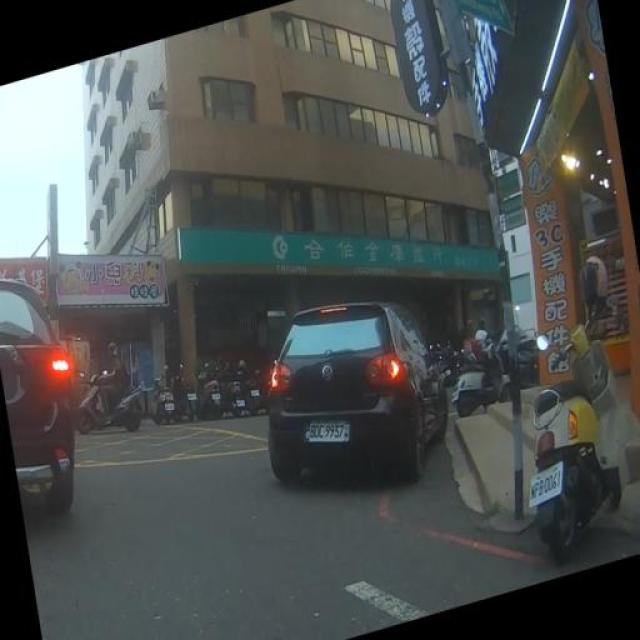illegalparking: (222, 278, 483, 538)
